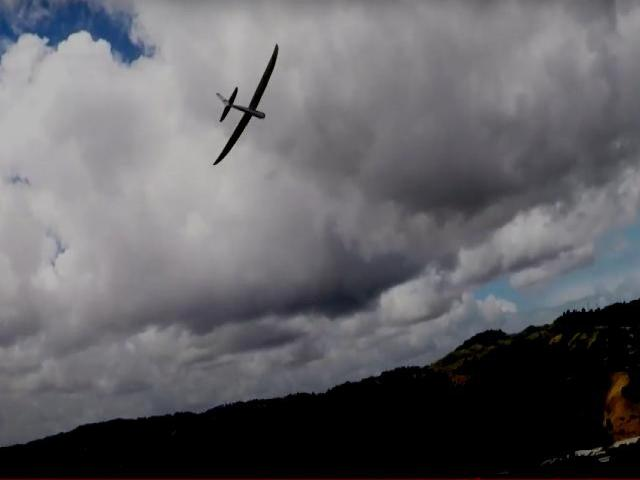iha: (210, 43, 284, 174)
